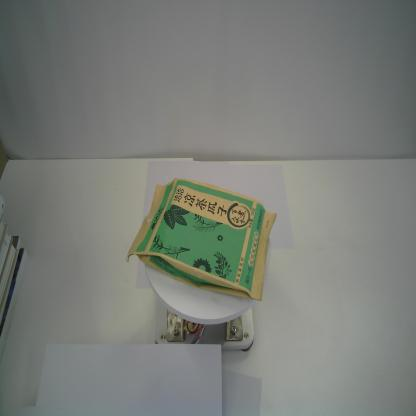Dried Food: (124, 175, 278, 304)
